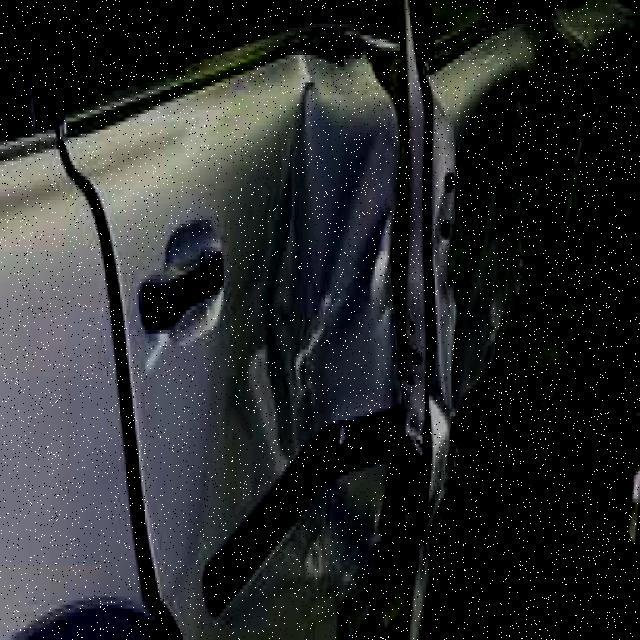car damage: (246, 7, 640, 640)
